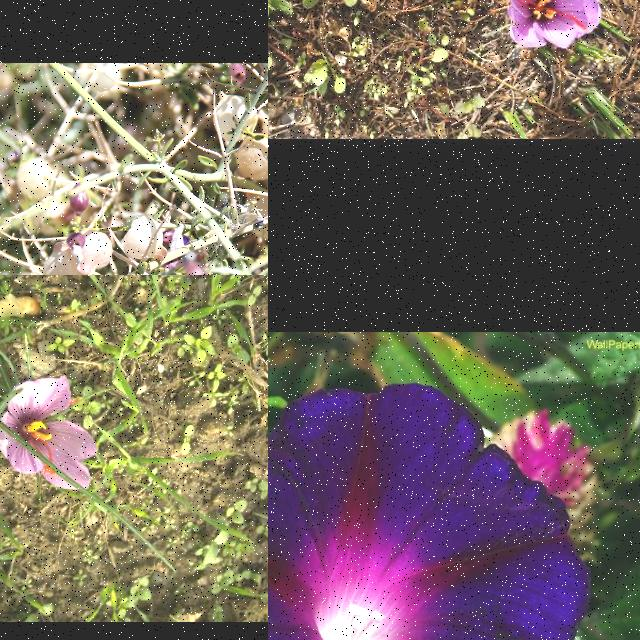flower: (0, 376, 98, 491), (504, 0, 602, 49)
